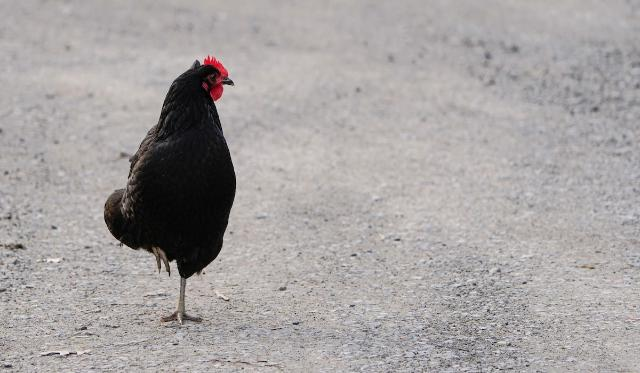Chicken: (105, 57, 239, 326)
